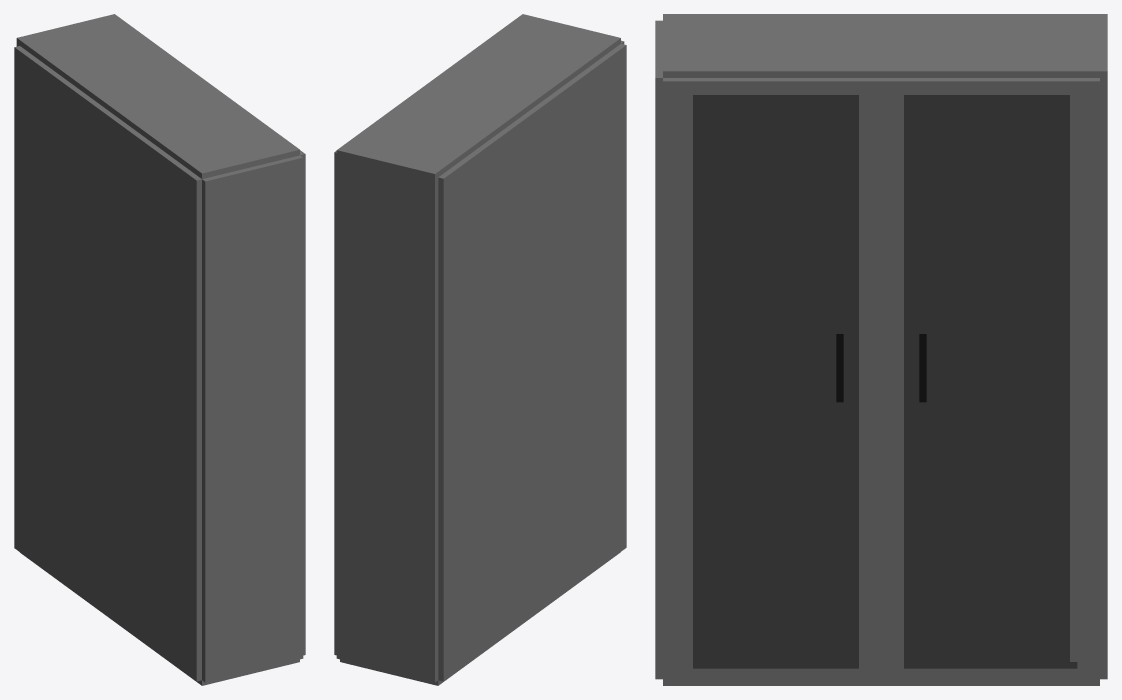
Rendered from SchoolPack-57-shelf.obj.
The picture shows the model from 3 angles, left to right: view 1: azimuth 30°, elevation 25°; view 2: azimuth 150°, elevation 25°; view 3: azimuth 270°, elevation 25°; orthographic projection. The views are drawn at different scales.
Visible parts, largest first — view 1: shelf; view 2: shelf; view 3: shelf.
Part boxes in pixels (bbox=[...]): shelf: bbox=[14, 14, 305, 685]; shelf: bbox=[334, 14, 626, 685]; shelf: bbox=[655, 14, 1107, 685].
Size of the model in its own units: 2 by 9 by 6.
Materials: 1 (1 with a texture image).
